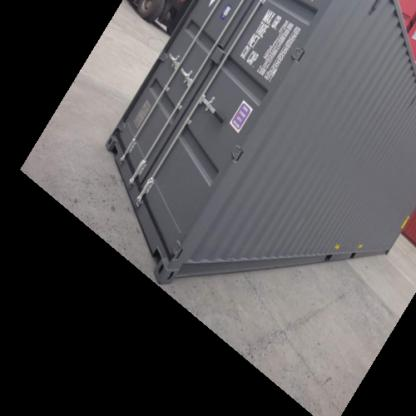Damage: (206, 104, 231, 130), (352, 147, 372, 173)
